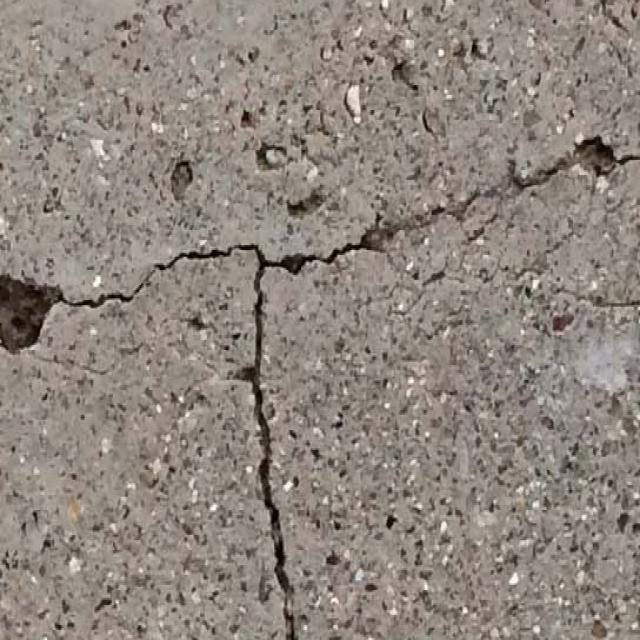crack: (64, 154, 570, 312), (250, 314, 297, 638)
spall: (0, 272, 64, 358), (571, 132, 617, 179)
